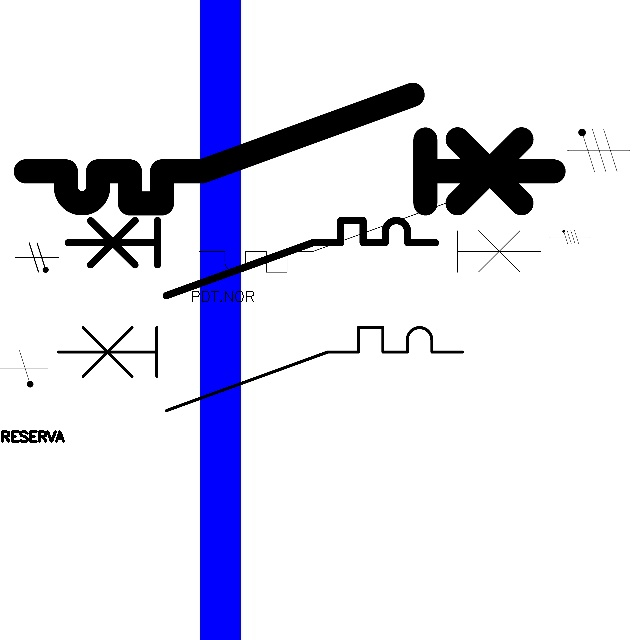interruptor_termomagnetico: (12, 81, 567, 217), (48, 317, 473, 421), (58, 211, 444, 305), (190, 193, 550, 281)
